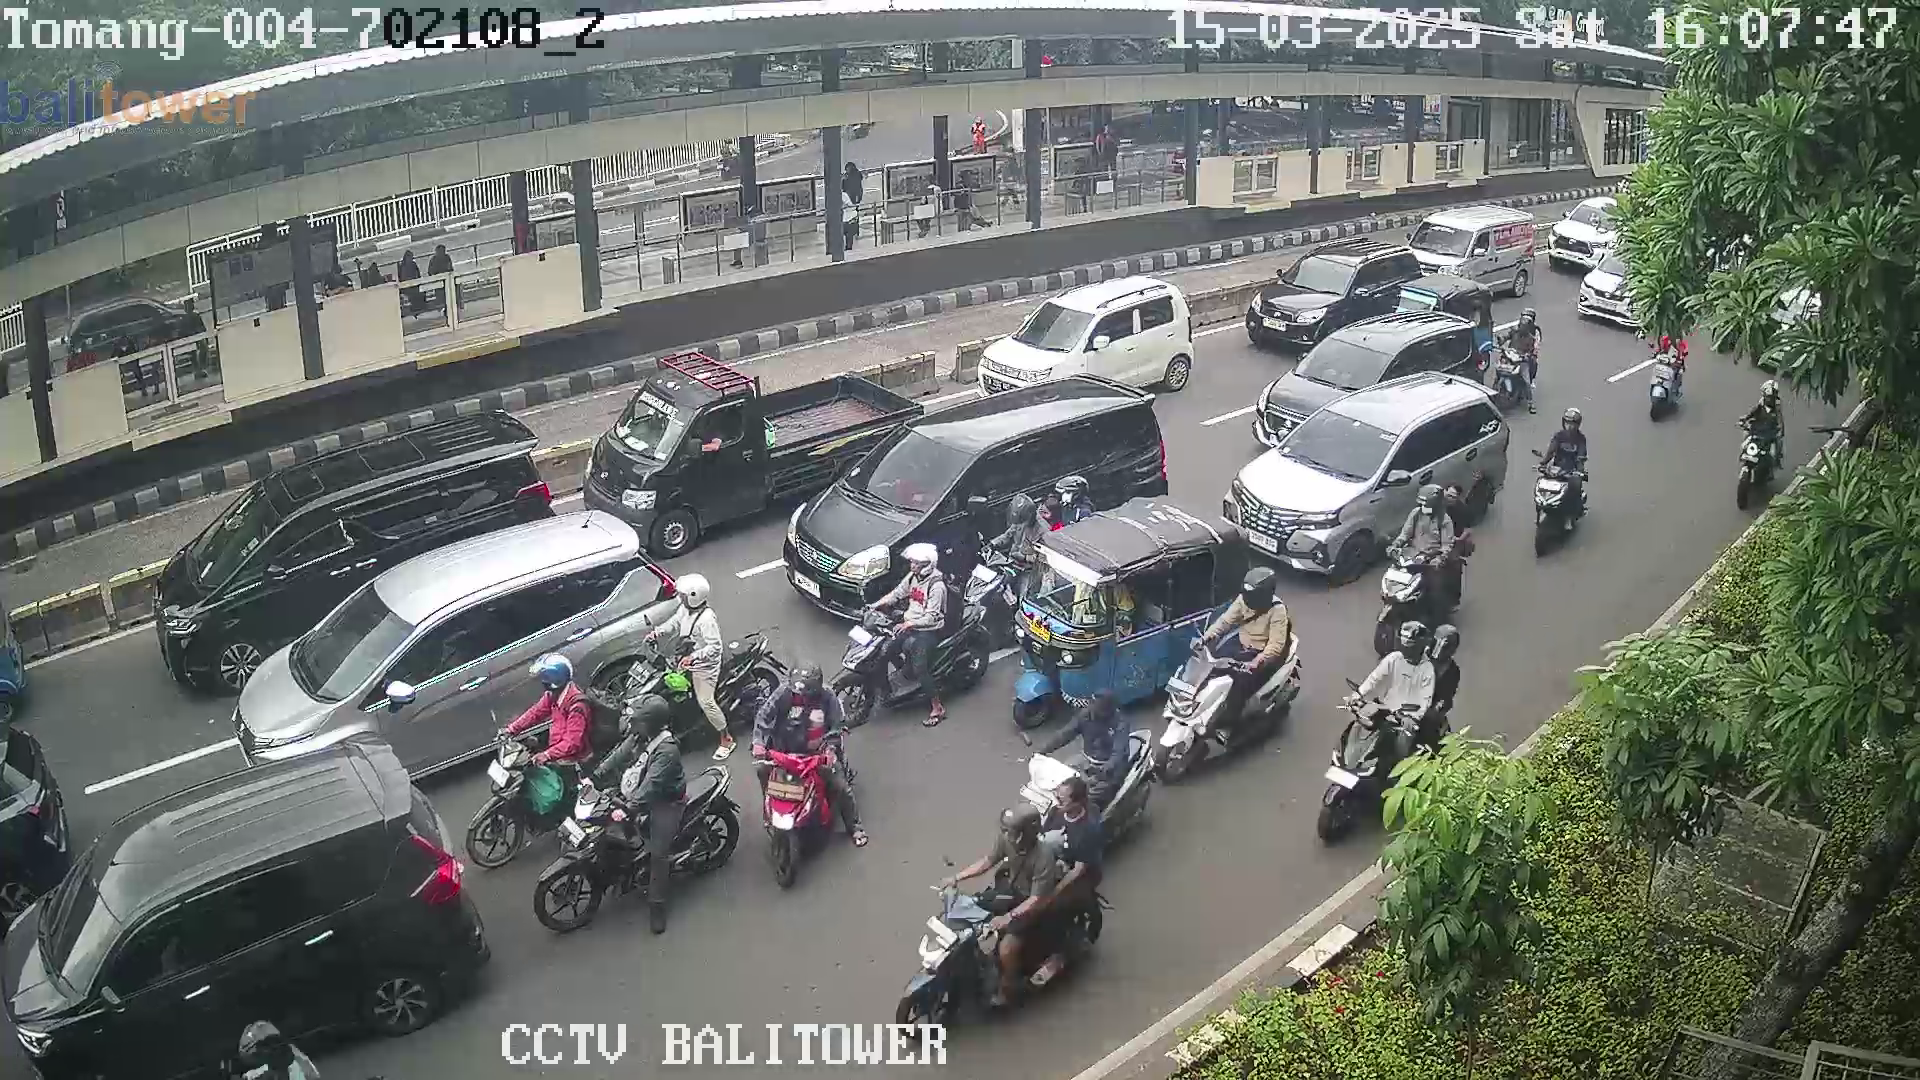full-face helmet: (1237, 561, 1288, 622), (1400, 618, 1421, 665), (1759, 380, 1786, 416)
half-face helmet: (519, 647, 582, 708), (774, 647, 833, 710), (615, 696, 682, 745), (233, 1020, 292, 1069), (666, 573, 727, 620), (898, 537, 953, 580), (1427, 620, 1466, 673), (1059, 471, 1096, 518), (1006, 488, 1033, 531), (1514, 306, 1541, 345), (1415, 482, 1445, 518), (1563, 406, 1584, 445)
no helmet: (1049, 773, 1104, 820), (1031, 494, 1068, 529), (1439, 471, 1468, 514)
